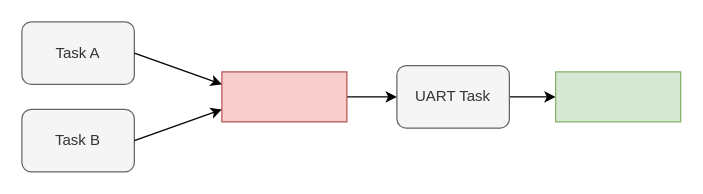
This 703x194 diagram has some shape labels left out. Here are the shapes that lost their labels. From the top down, the centre of each, then its label:
At (x=284, y=96): "Queue".
At (x=617, y=96): "UART2".
